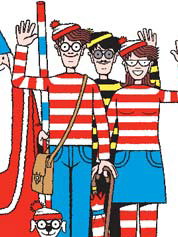waldo: (50, 20, 87, 68)
